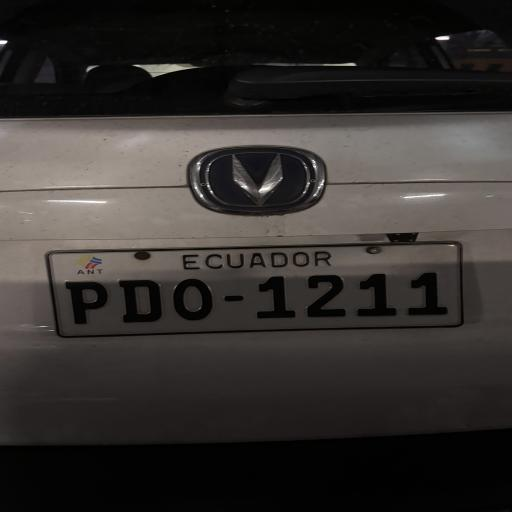license_plate: (48, 243, 461, 336)
